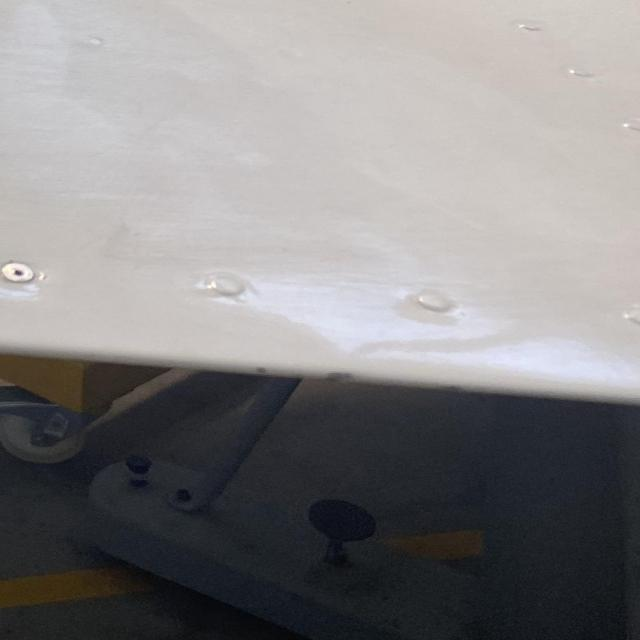Paint-off: (312, 370, 371, 388)
